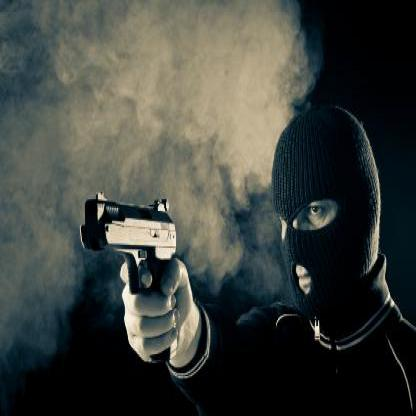pistol: (79, 185, 177, 293)
